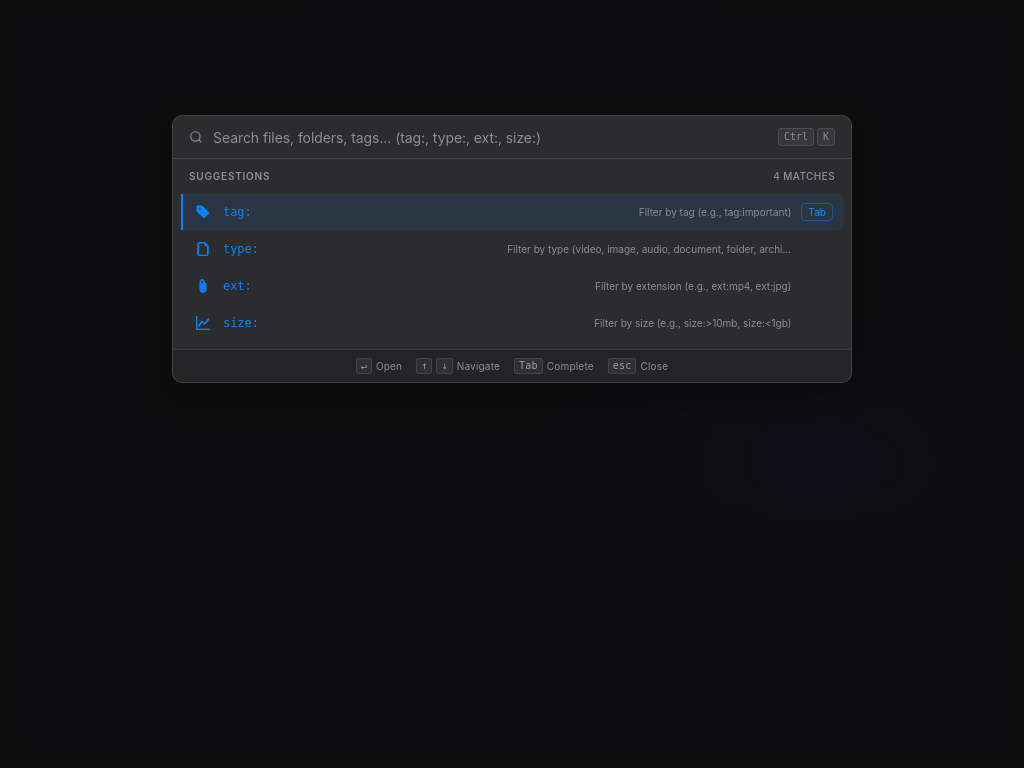
Test: SpotlightSearch › Search Functionality › should filter files by name
In the field with placeholder "Search files, folders, tags... (tag:, type:, ext:, size:)": (490, 137) [213,129,768,146], type "video"
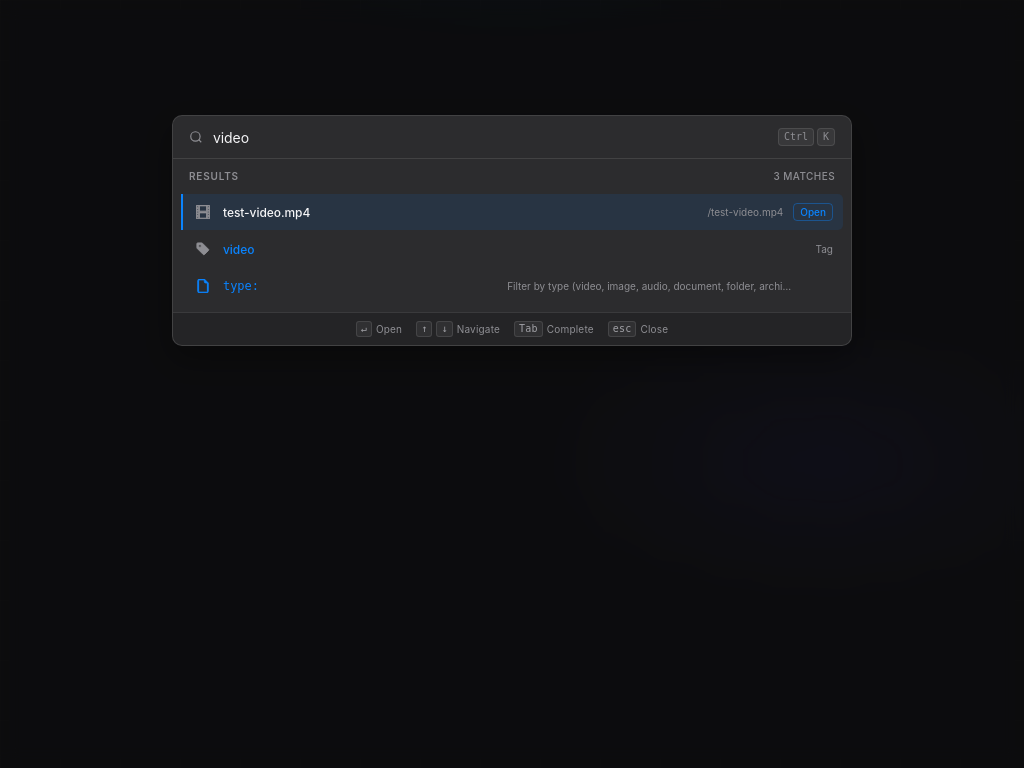
Now the text "test-video.mp4" is shown, box [223,205,310,220]
